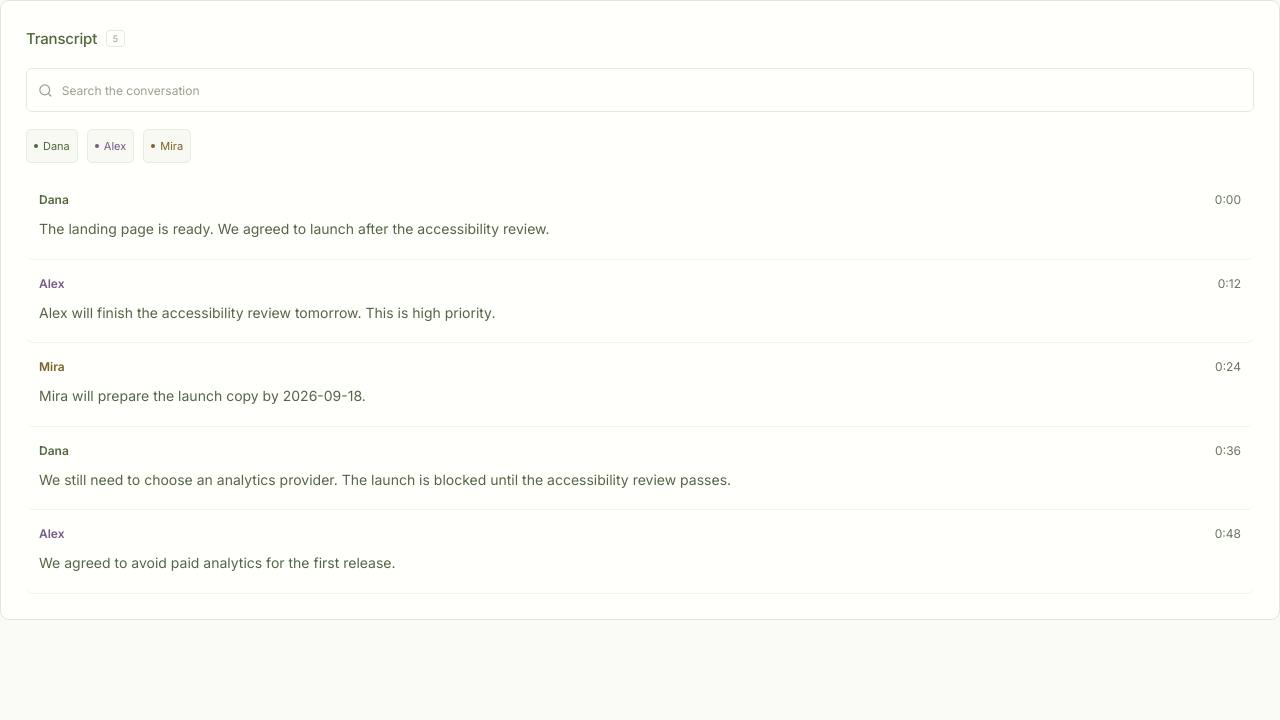
speaker chips filter the transcript instead of opening a rename field
This screenshot has width=1280, height=720.
expect the text "The landing page is ready" is shown: met, box x1=39 y1=220 x2=550 y2=237
expect the text "Mira will prepare the launch copy by 2026-09-18." is shown: met, box x1=39 y1=387 x2=366 y2=404
What coordinates should you click on to do the following:
click the button "Dana"
I would click on:
 (52, 146)
Its box is x1=26 y1=129 x2=78 y2=163.
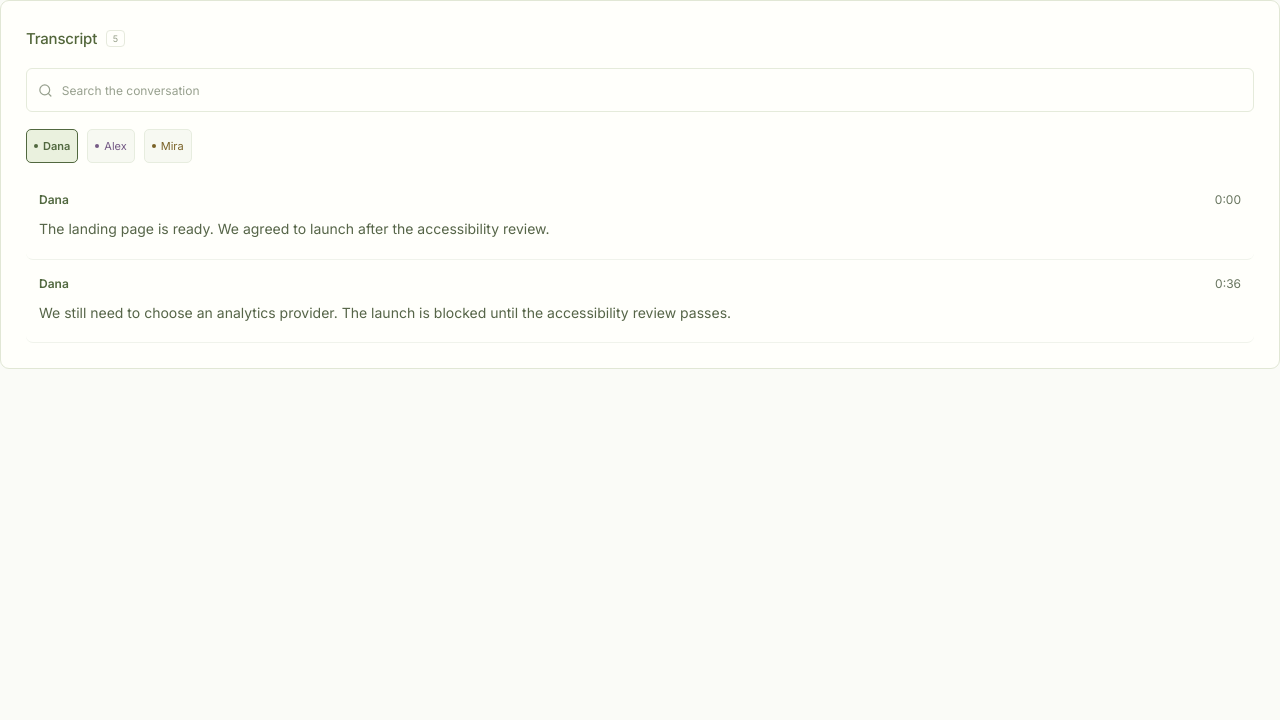
expect the text "The landing page is ready" is shown: met, box x1=39 y1=220 x2=550 y2=237
expect the button "Mira will prepare the launch copy" is gone: met
